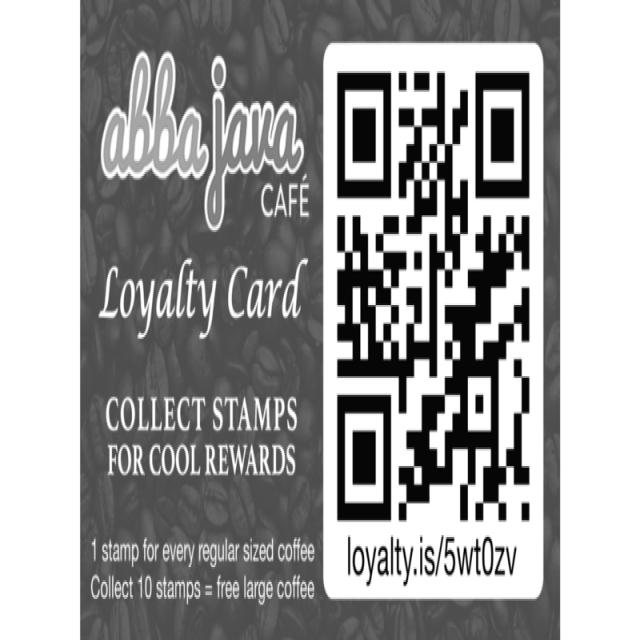QR-codes: (336, 66, 532, 524)
